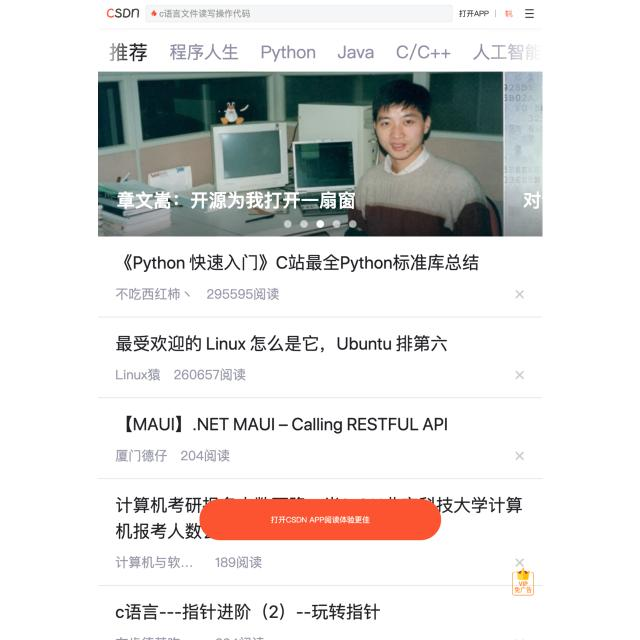CheckBox: (199, 499, 442, 540), (458, 9, 491, 19)
CheckedTextView: (146, 4, 454, 23)
QR code: (98, 239, 542, 485)
bag: (98, 0, 544, 71)
card: (98, 71, 542, 238)
carousel: (149, 7, 158, 18)
data feed: (269, 511, 375, 528)
date picker: (101, 5, 142, 21)
decoration: (102, 36, 544, 68), (523, 7, 537, 20)
dropdown: (279, 215, 362, 233)
footer: (159, 7, 252, 20)
